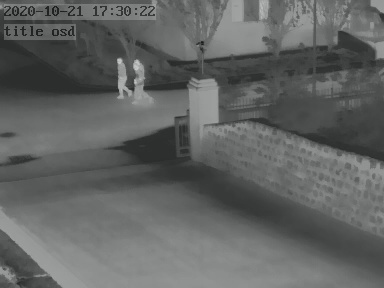person: (132, 59, 149, 99), (116, 56, 130, 100)
